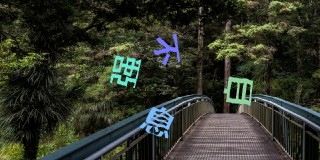不: (154, 34, 181, 65)
强: (109, 55, 141, 88)
息: (138, 105, 174, 138)
自: (223, 76, 254, 106)
